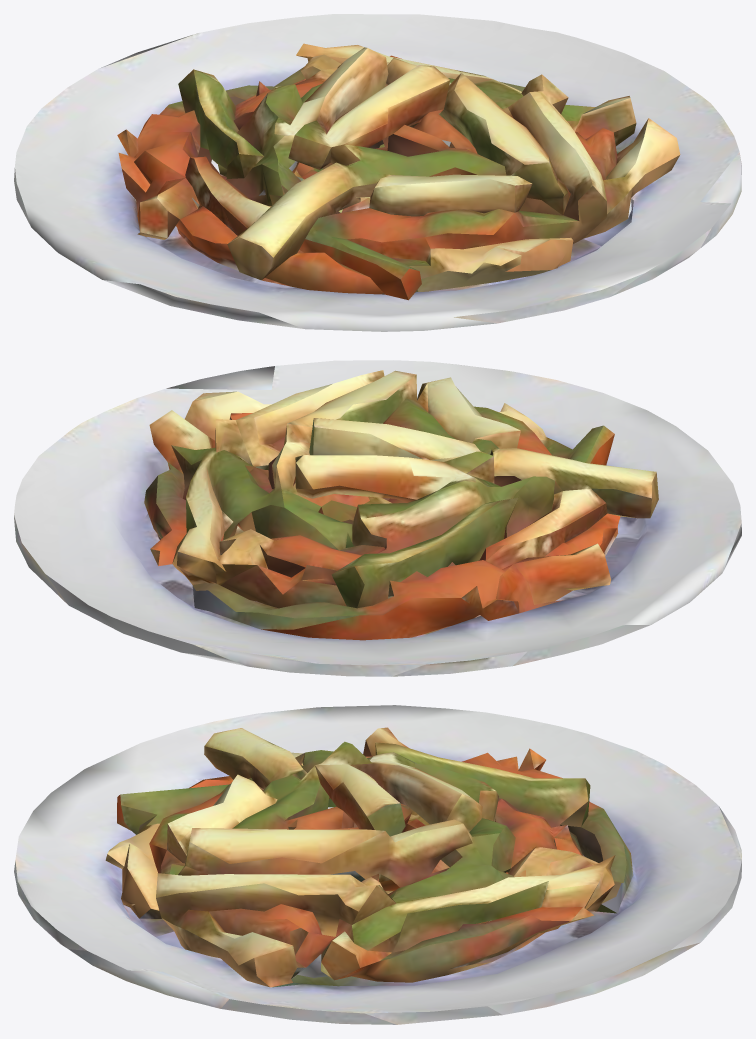
The model's file is bamboo_stirfry.glb.
3 renders of one model, top to bottom at view 1: azimuth 30°, elevation 25°; view 2: azimuth 150°, elevation 25°; view 3: azimuth 270°, elevation 25°, orthographic.
Parts seen in each view (by area): view 1: item_bamboo_stirfry; view 2: item_bamboo_stirfry; view 3: item_bamboo_stirfry.
Part boxes in pixels (<box>): item_bamboo_stirfry: <box>14,14,741,331</box>; item_bamboo_stirfry: <box>14,360,741,676</box>; item_bamboo_stirfry: <box>14,705,741,1024</box>.
Bounding box in the file's own units: 1 × 0.1836 × 0.9952.
Materials: 1 (1 with a texture image).
